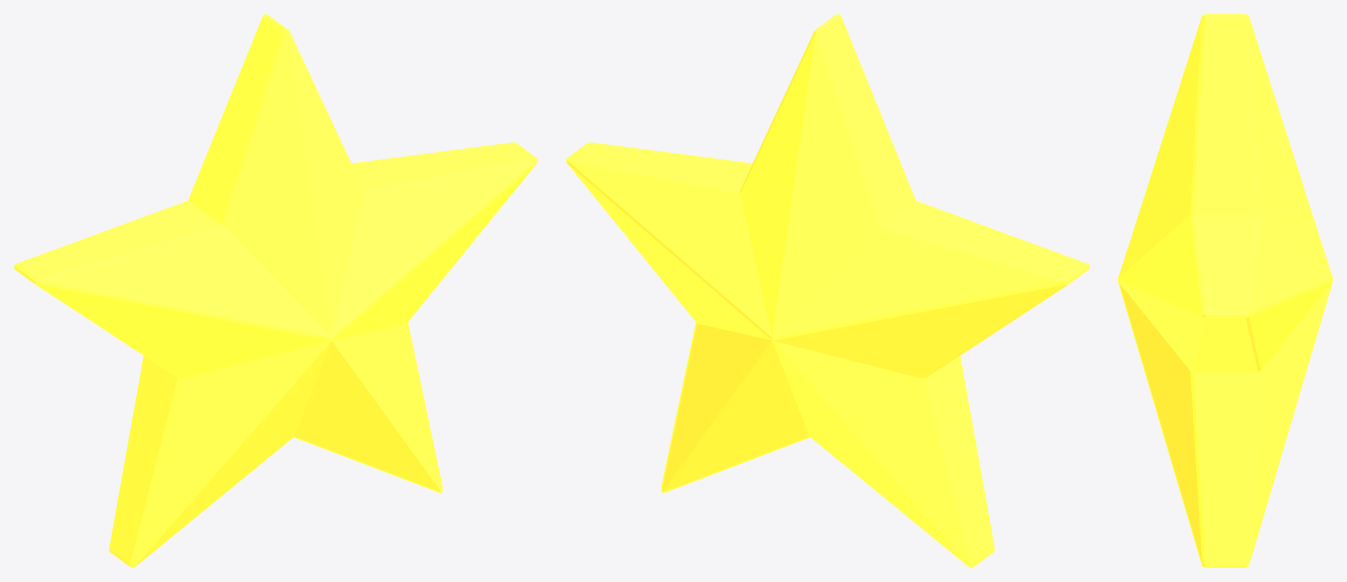
The model's file is star_v3.glb.
The picture shows the model from 3 angles, left to right: view 1: azimuth 30°, elevation 25°; view 2: azimuth 150°, elevation 25°; view 3: azimuth 270°, elevation 25°; orthographic projection. The views are drawn at different scales.
Parts seen in each view (by area): view 1: Body_FFD447; view 2: Body_FFD447; view 3: Body_FFD447.
Part boxes in pixels (x1=…): Body_FFD447: x1=14, y1=14, x2=537, y2=567; Body_FFD447: x1=566, y1=14, x2=1089, y2=567; Body_FFD447: x1=1118, y1=14, x2=1332, y2=567.
Size of the model in its own units: 6.87 by 6.55 by 2.65.
